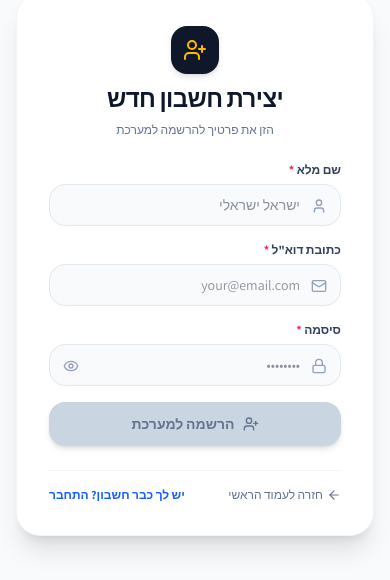
Test: SignUpPage › shows a validation error for an invalid email
Type "not-an-email" into the field labelled "כתובת דוא\"ל *" at (195, 285), box [49,264,341,306]
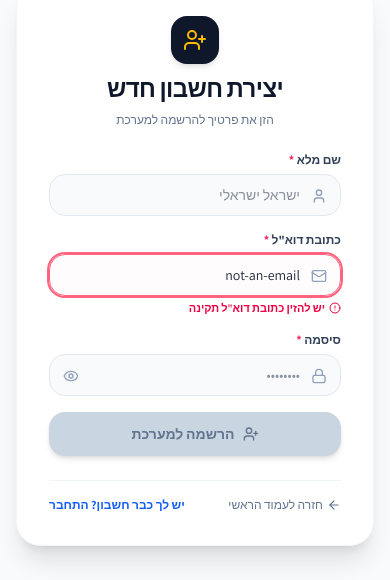
Expected: the button "הרשמה למערכת" is disabled, [49,412,341,456]
Now the text "יש להזין כתובת דוא\"ל תקינה" is shown, box [189,300,325,316]
